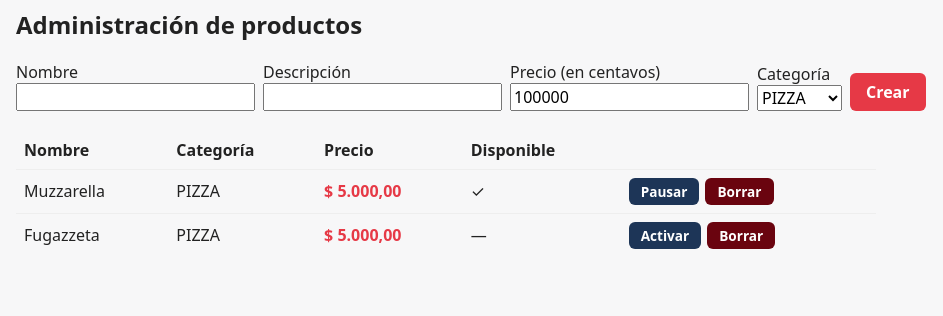
<AdminProductsPage> › muestra error si el toggle falla
Step 1. Click the button "Pausar" → (664, 191), box 629,178 -> 700,205
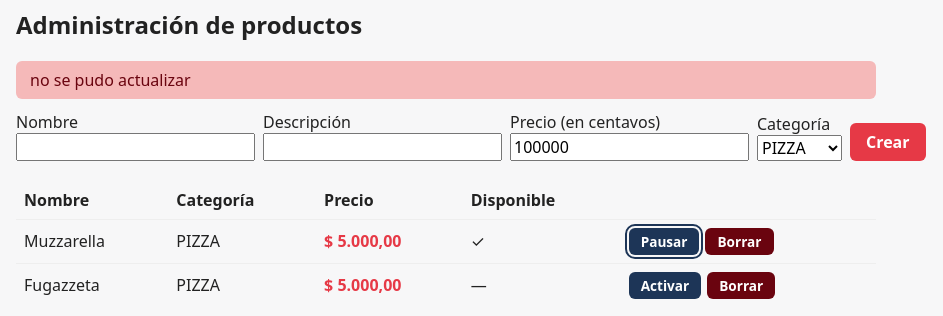
expect the text "no se pudo actualizar" is shown: met, box 16,61 -> 876,99
